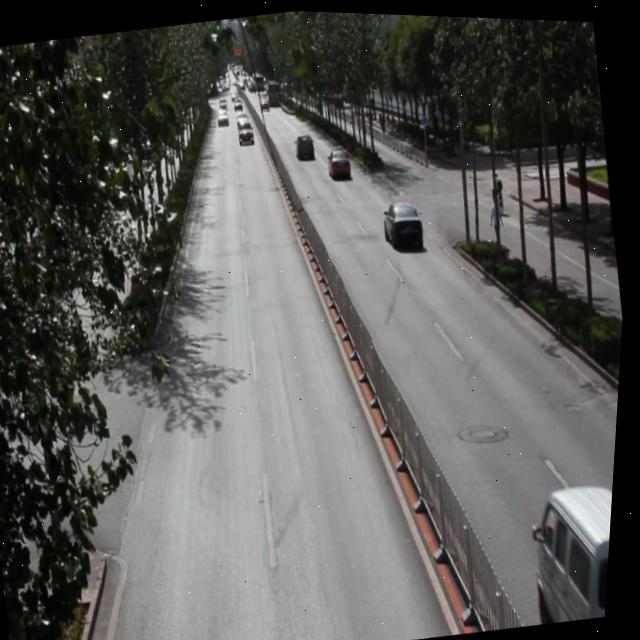car: (381, 195, 428, 251), (325, 142, 356, 181), (293, 130, 319, 161), (238, 118, 257, 143)
truck: (526, 466, 619, 622)
